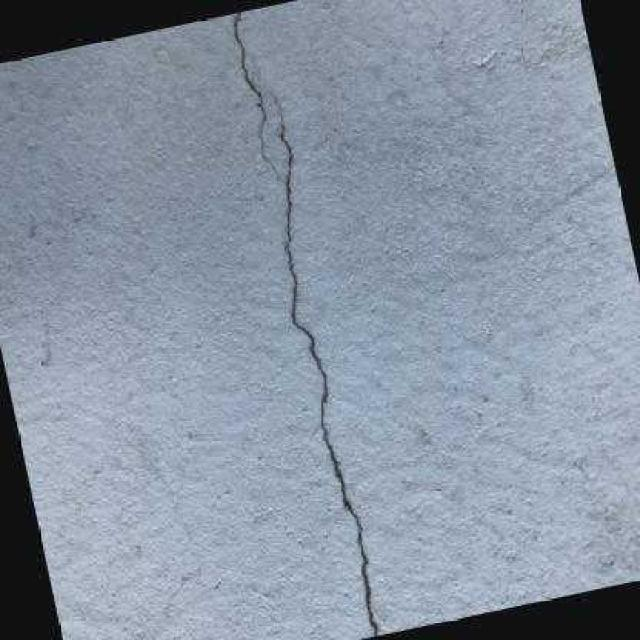D00: (270, 91, 375, 636), (231, 10, 277, 178)
